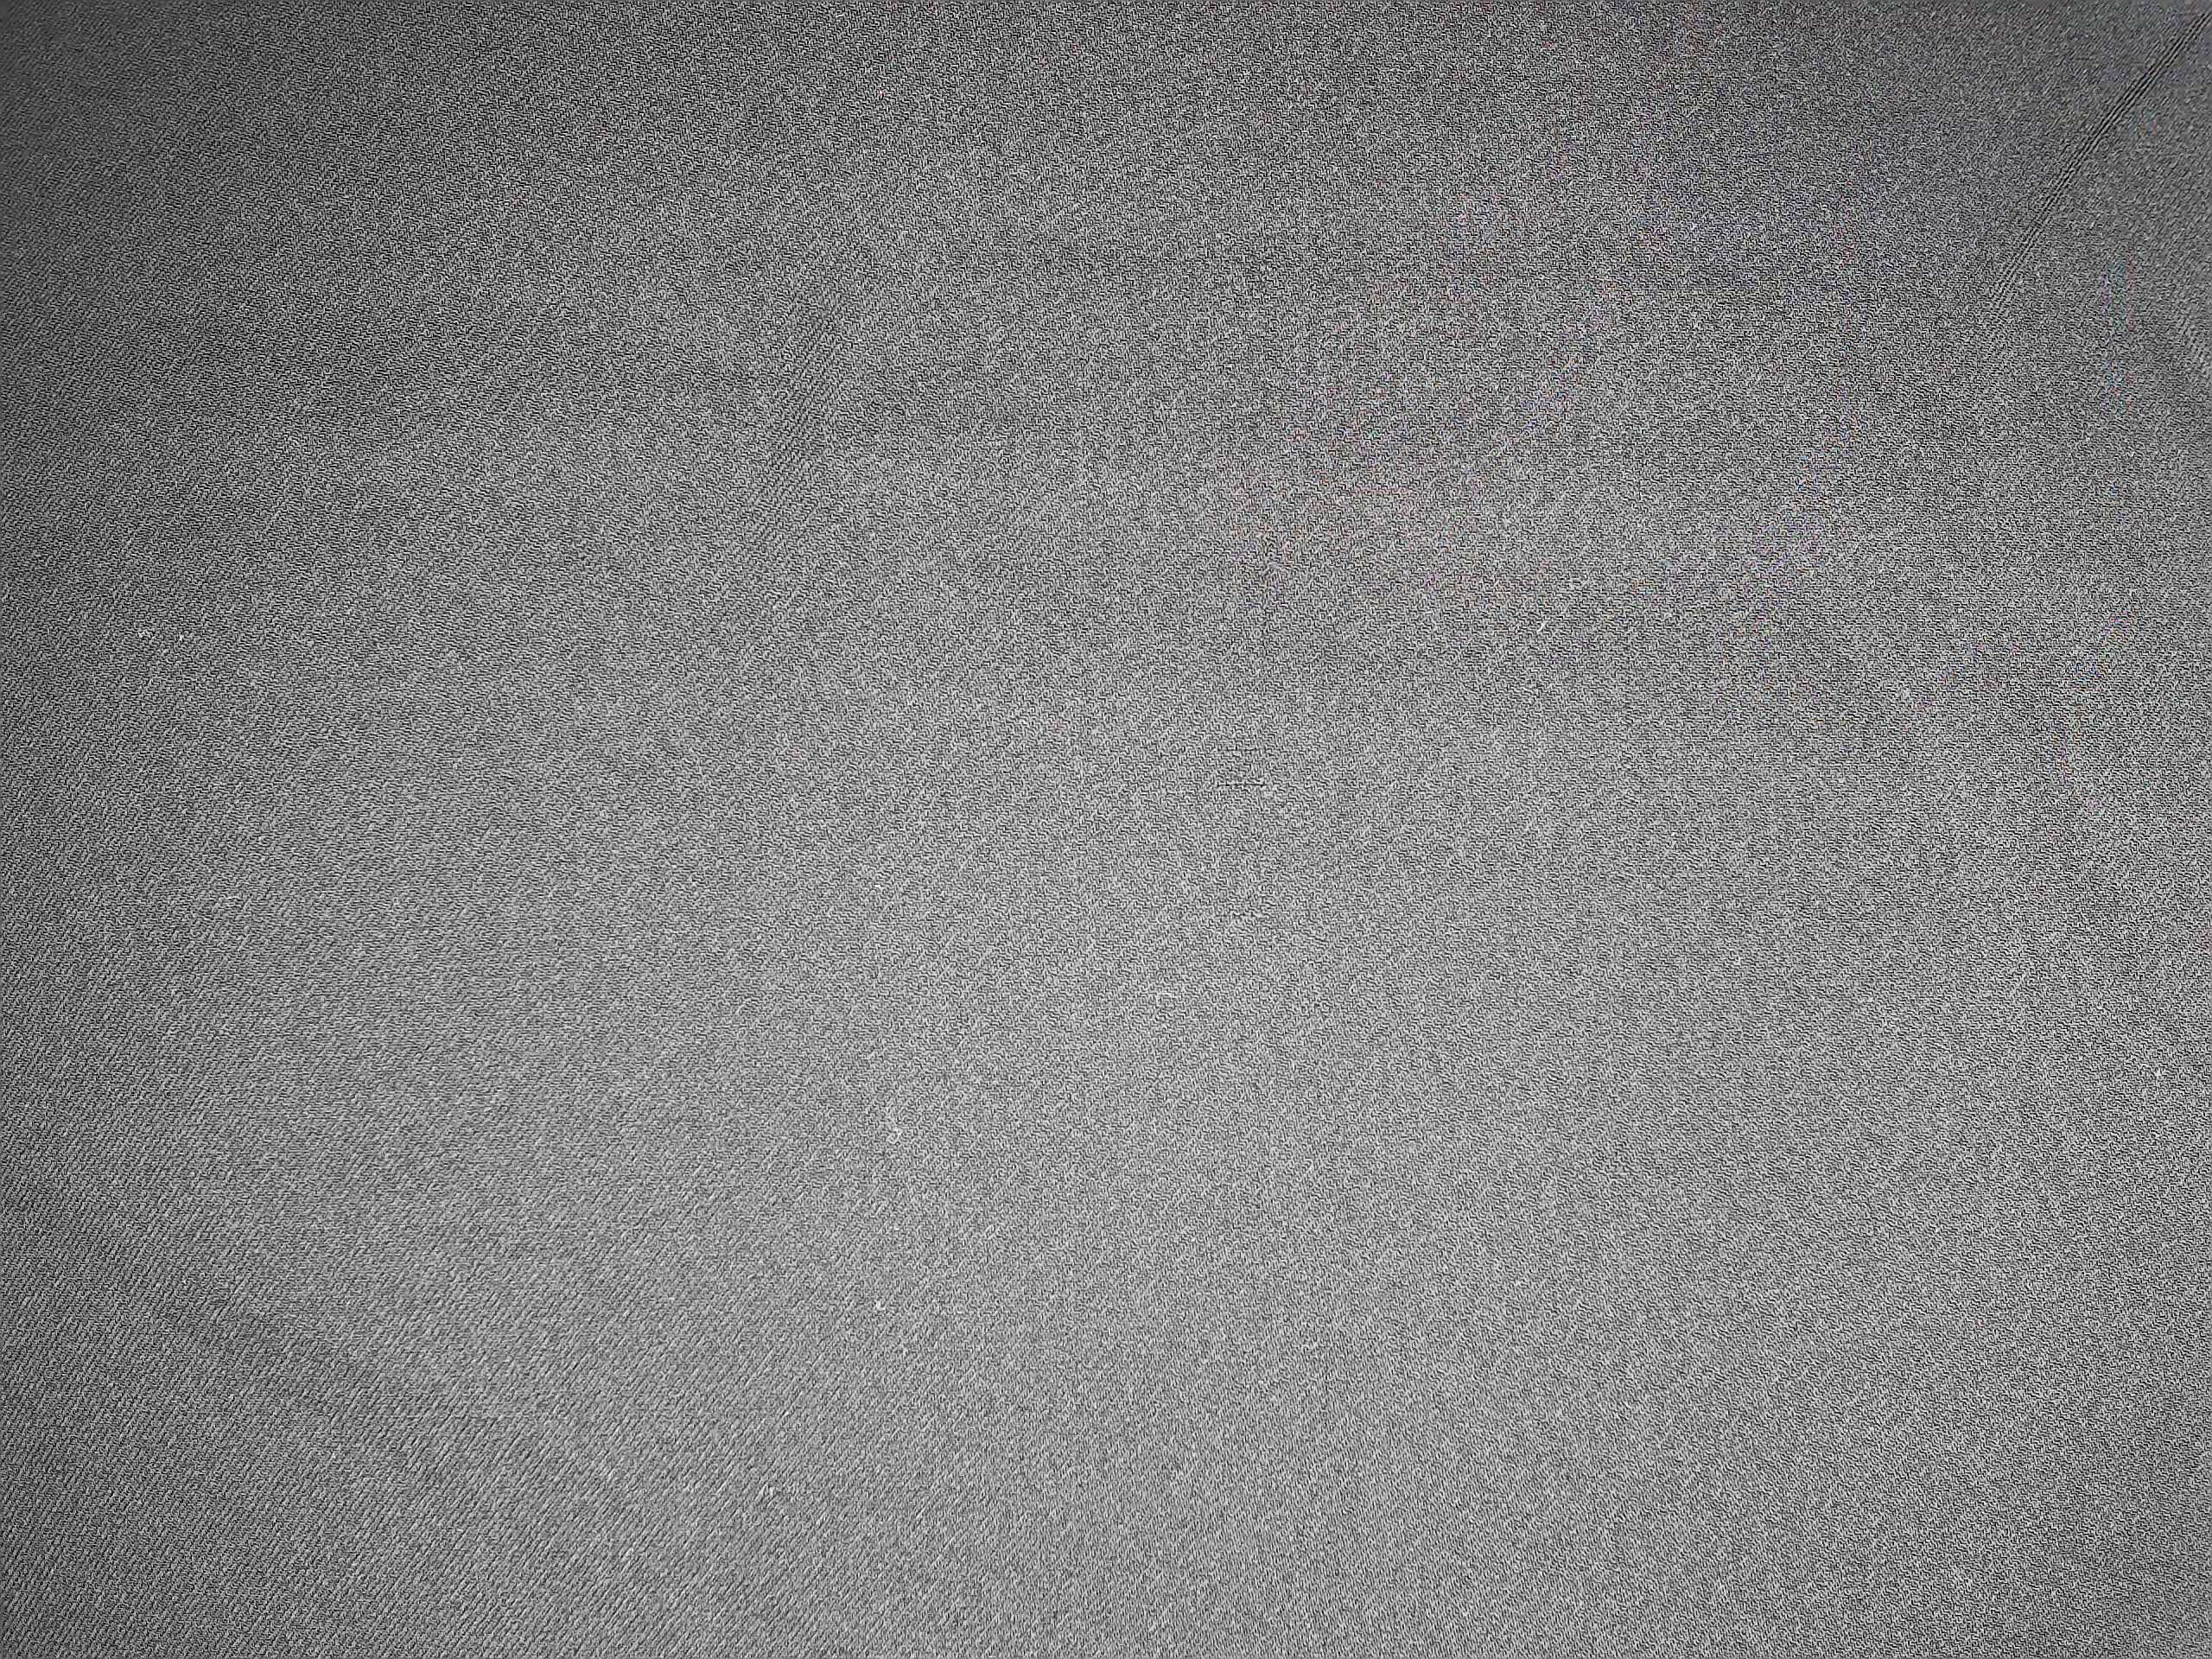hanging-warp: (1205, 518, 1289, 950)
